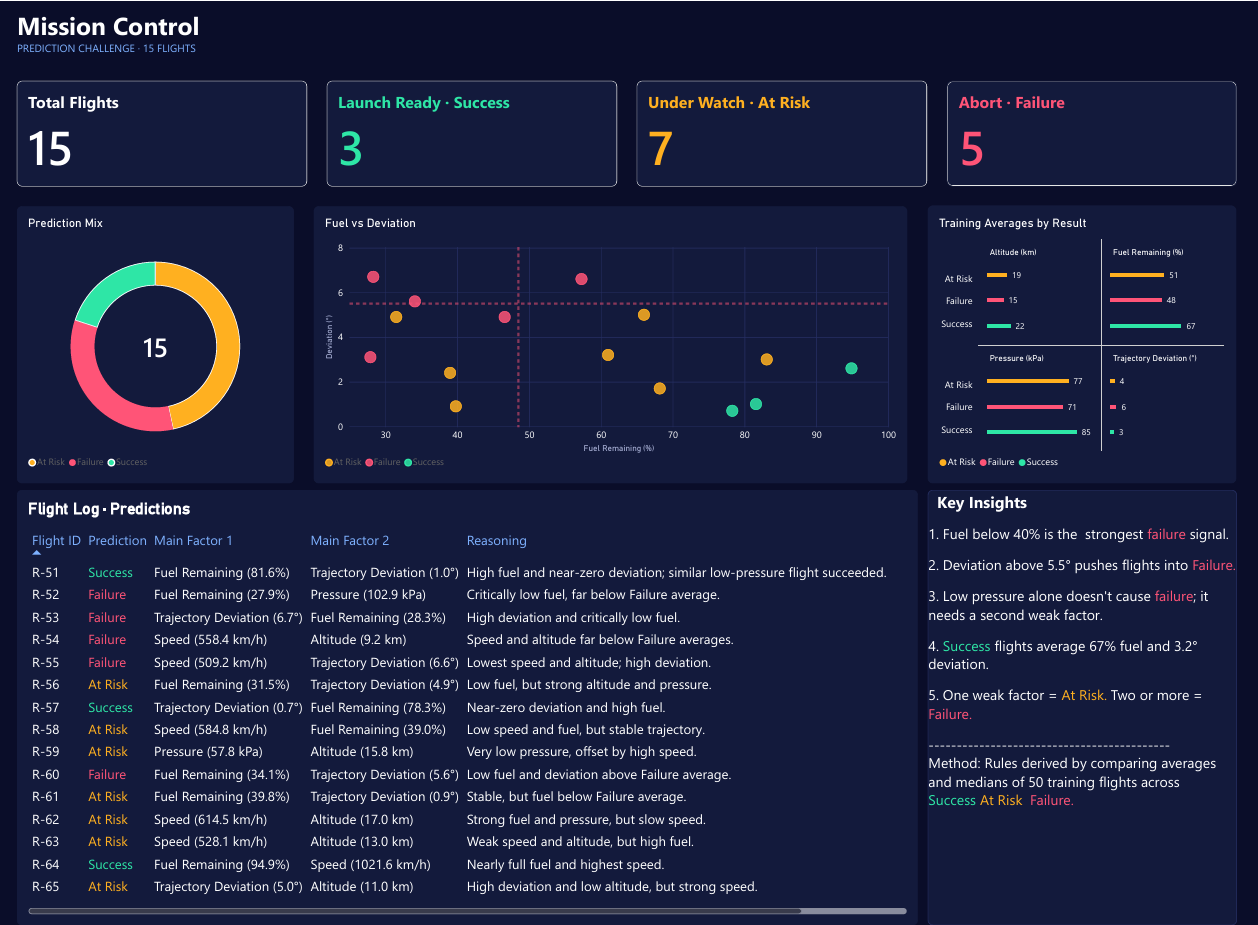

This screenshot's page, from the dashboard's own definition file:
{"tool":"powerbi","page":{"name":"Page 1","canvas":[1920,1400],"ordinal":0},"visuals":[{"type":"cardVisual","title":"Total Flights","fields":{"Data":["CountNonNull(Challenge Data.Flight ID)"]},"box":[30,120,440,160],"z":0},{"type":"cardVisual","fields":{"Data":["CountNonNull(Challenge Data.Flight ID)"]},"box":[500,120,440,160],"z":1000},{"type":"cardVisual","fields":{"Data":["CountNonNull(Challenge Data.Flight ID)"]},"box":[970,120,440,160],"z":2000},{"type":"cardVisual","fields":{"Data":["CountNonNull(Challenge Data.Flight ID)"]},"box":[1440,120,440,160],"z":3000},{"type":"donutChart","title":"Prediction Mix","fields":{"Category":["Challenge Data.Your Prediction"],"Y":["CountNonNull(Challenge Data.Flight ID)"]},"box":[30,310,420,420],"z":4000},{"type":"scatterChart","title":"Fuel vs Deviation","fields":{"Category":["Challenge Data.Flight ID"],"Series":["Challenge Data.Your Prediction"],"X":["Sum(Challenge Data.Fuel Remaining (%))"],"Y":["Sum(Challenge Data.Trajectory Deviation (°))"]},"box":[480,310,900,420],"z":5000},{"type":"tableEx","title":"Flight Log · Predictions","fields":{"Values":["Submission Template (2).Flight ID","Submission Template (2).Prediction","Submission Template (2).Main Factor 1","Submission Template (2).Main Factor 2","Submission Template (2).Reasoning"]},"box":[30.3,739.6,1366.1,660.8],"z":6000},{"type":"textbox","box":[30.3,10,900,85],"z":7000},{"type":"textbox","box":[74.8,68.7,301.1,42.4],"z":8000},{"type":"clusteredBarChart","title":"Training Averages by Result","fields":{"Category":["Training Long.Result"],"Rows":["Training Long.Attribute"],"Series":["Training Long.Outcome"],"Y":["Avg(Training Long.Value)"]},"box":[1410.5,309.2,468.8,420.3],"z":9000},{"type":"textbox","box":[1411,740,469,660],"z":9001}]}

Visuals, with their boxes in screenshot pixels (x1, y1, x2, y2), scaled from the page's 1920x1400 canvas onto the 1258x925 screenshot:
"Total Flights" cardVisual: pyautogui.locateOnScreen(20, 79, 308, 185)
cardVisual - CountNonNull(Challenge Data.Flight ID): pyautogui.locateOnScreen(328, 79, 616, 185)
cardVisual - CountNonNull(Challenge Data.Flight ID): pyautogui.locateOnScreen(636, 79, 924, 185)
cardVisual - CountNonNull(Challenge Data.Flight ID): pyautogui.locateOnScreen(943, 79, 1232, 185)
"Prediction Mix" donutChart: pyautogui.locateOnScreen(20, 205, 295, 482)
"Fuel vs Deviation" scatterChart: pyautogui.locateOnScreen(314, 205, 904, 482)
"Flight Log · Predictions" tableEx: pyautogui.locateOnScreen(20, 489, 915, 924)
textbox: pyautogui.locateOnScreen(20, 7, 610, 63)
textbox: pyautogui.locateOnScreen(49, 45, 246, 73)
"Training Averages by Result" clusteredBarChart: pyautogui.locateOnScreen(924, 204, 1231, 482)
textbox: pyautogui.locateOnScreen(924, 489, 1232, 924)
